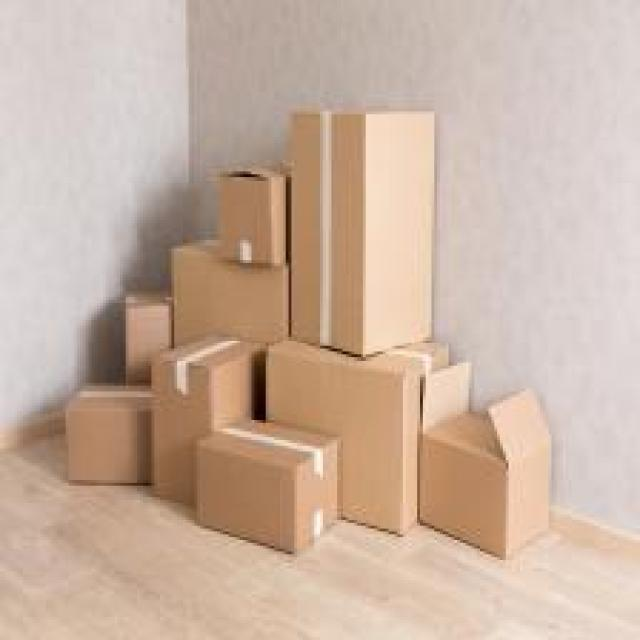box: (290, 103, 435, 361), (264, 343, 449, 539), (417, 361, 552, 562), (196, 418, 340, 557), (151, 334, 257, 519), (169, 236, 294, 356), (64, 379, 172, 494), (218, 163, 295, 271), (122, 288, 170, 397)
opened: (421, 362, 553, 471)
